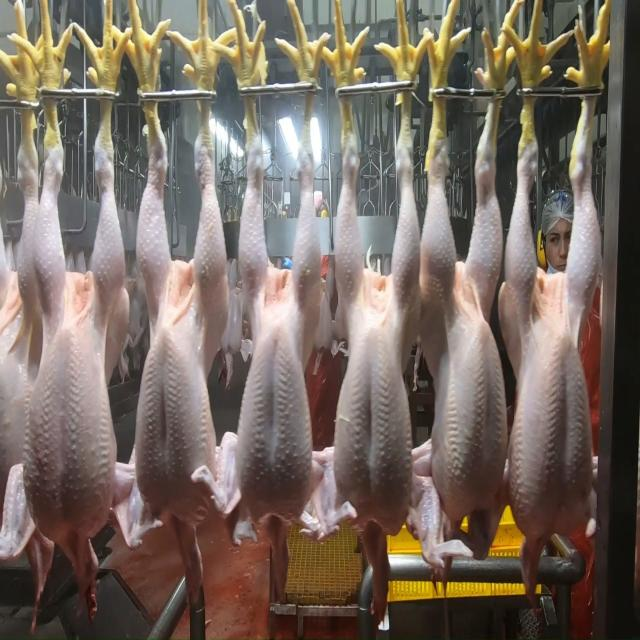chicken: (125, 124, 226, 534), (510, 127, 608, 543), (35, 139, 126, 536), (330, 140, 421, 536), (233, 156, 321, 534), (424, 136, 509, 524), (0, 140, 52, 543)
